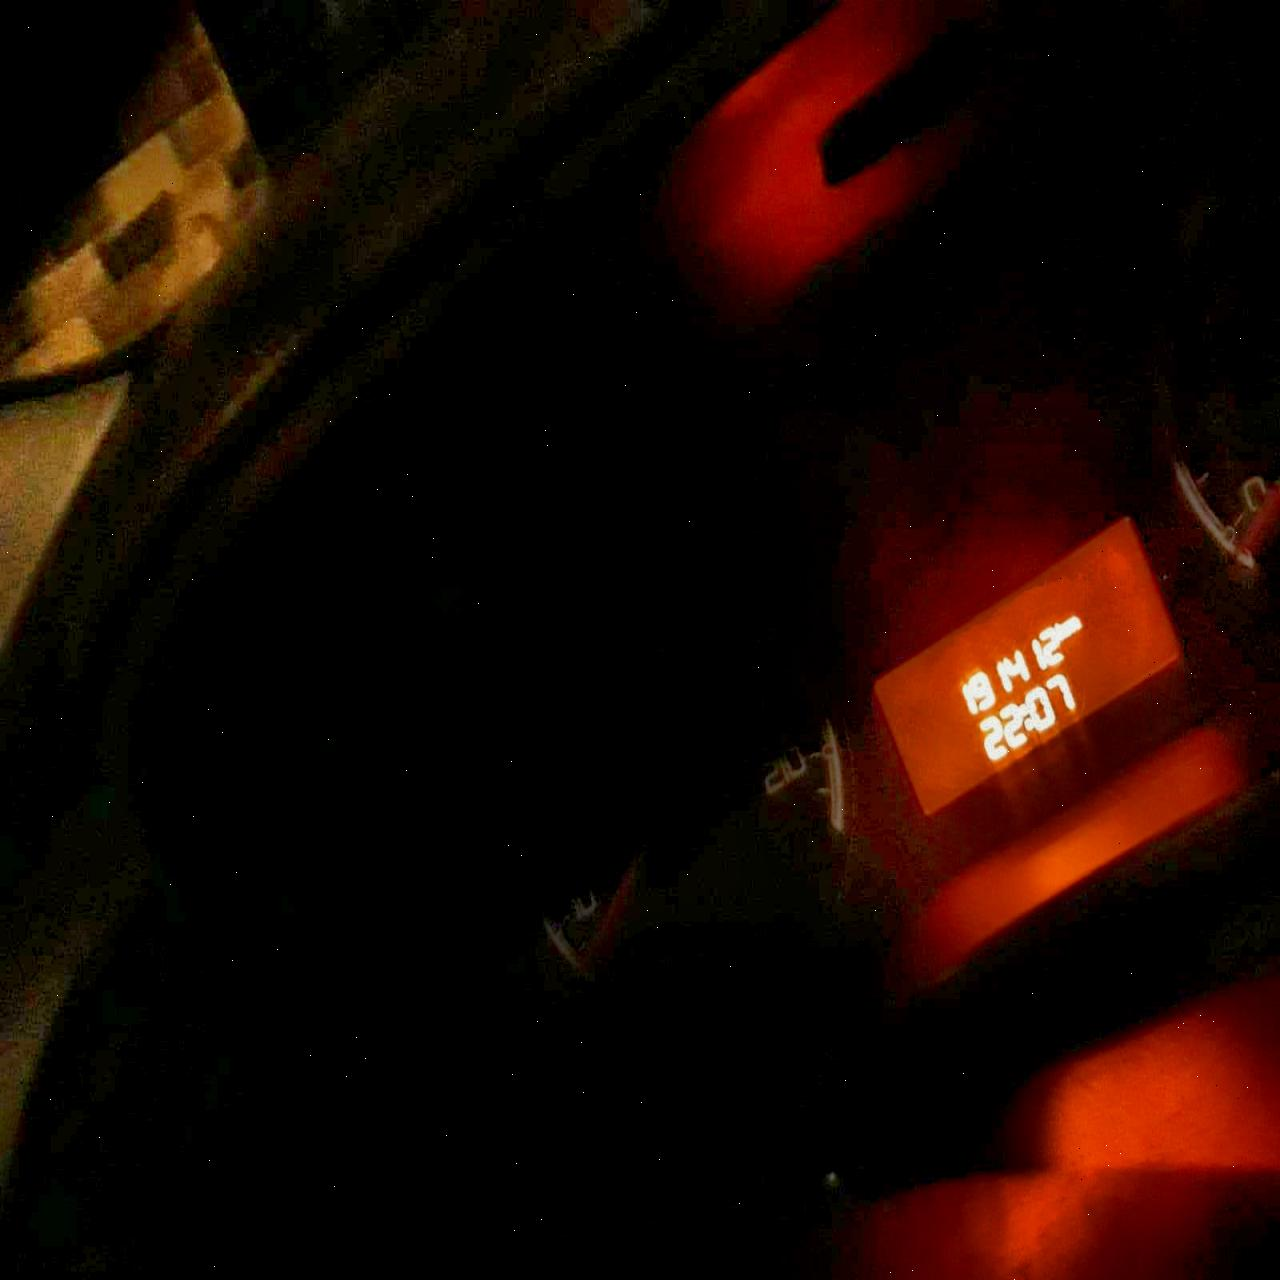0: (1023, 683, 1055, 729)
1: (961, 681, 979, 716), (994, 659, 1013, 692), (1032, 638, 1047, 670)
2: (979, 715, 1007, 761), (999, 701, 1024, 749), (1039, 625, 1062, 666)
4: (1001, 647, 1029, 681)
7: (1044, 670, 1076, 709)
9: (968, 669, 996, 710)
X: (1062, 614, 1082, 635), (1020, 701, 1033, 730), (1054, 621, 1065, 640)
odometer: (866, 508, 1186, 821)
